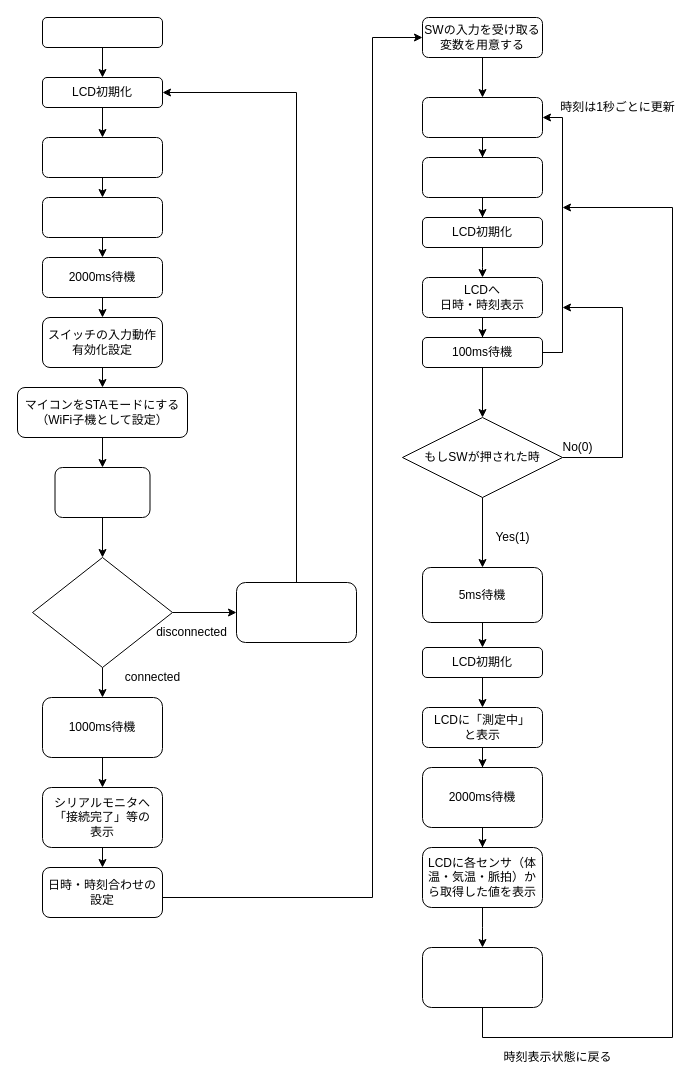
Image size: 700x1085. Some labels were removed from this diagram. The shapes that lost their labels are listed below. From the top down, each one's centre as x and y in pixels, then its label:
At point 102,32: "電源ON".
At point 482,117: "日時・時刻取得".
At point 102,157: "LCDのバックライトの有効化".
At point 482,177: "日付・時刻を文字列として取得".
At point 102,217: "LCDへグループ名・班番号を表示".
At point 102,492: "WiFi切断".
At point 102,612: "WiFi接続開始".
At point 296,612: "マイコンを再起動".
At point 482,977: "5000ms待機".
